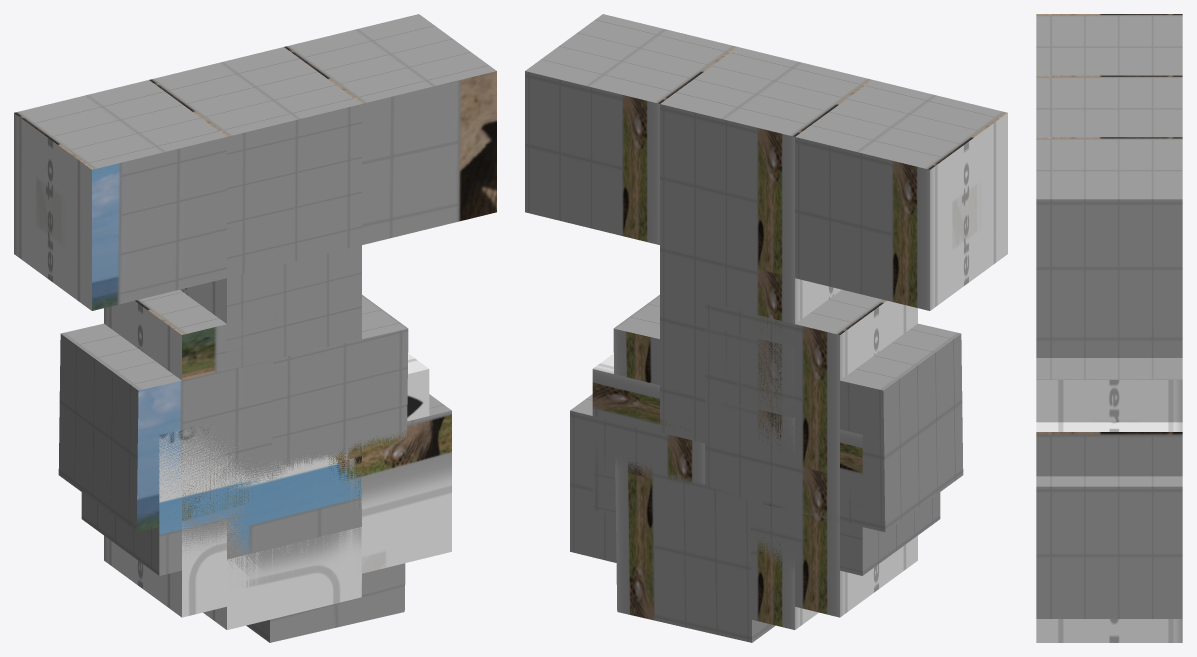
File: p1Movable.fbx
The picture shows the model from 3 angles, left to right: view 1: azimuth 30°, elevation 25°; view 2: azimuth 150°, elevation 25°; view 3: azimuth 270°, elevation 25°; orthographic projection. The views are drawn at different scales.
Parts seen in each view (by area): view 1: Cube.002, Cube.005, Cube, Cube.003, Cube.001, Cube.004, Cube.006; view 2: Cube.002, Cube, Cube.005, Cube.001, Cube.003, Cube.006, Cube.004; view 3: Cube.002, Cube, Cube.005, Cube.003, Cube.001.
Boxes of the visible parts, x1=… form: Cube.002: x1=14, y1=14, x2=496, y2=369; Cube.005: x1=58, y1=295, x2=408, y2=642; Cube: x1=104, y1=289, x2=451, y2=617; Cube.003: x1=81, y1=353, x2=429, y2=575; Cube.001: x1=203, y1=441, x2=361, y2=629; Cube.004: x1=227, y1=455, x2=361, y2=554; Cube.006: x1=227, y1=503, x2=255, y2=559; Cube.002: x1=525, y1=14, x2=1007, y2=344; Cube: x1=570, y1=289, x2=917, y2=617; Cube.005: x1=613, y1=295, x2=963, y2=642; Cube.001: x1=660, y1=315, x2=818, y2=629; Cube.003: x1=592, y1=353, x2=940, y2=575; Cube.006: x1=660, y1=385, x2=774, y2=443; Cube.004: x1=690, y1=393, x2=794, y2=474; Cube.002: x1=1036, y1=14, x2=1182, y2=353; Cube: x1=1036, y1=476, x2=1182, y2=618; Cube.005: x1=1036, y1=358, x2=1182, y2=642; Cube.003: x1=1036, y1=422, x2=1182, y2=476; Cube.001: x1=1036, y1=335, x2=1182, y2=357.
Bounding box in the file's own units: 600 × 734 × 200.
